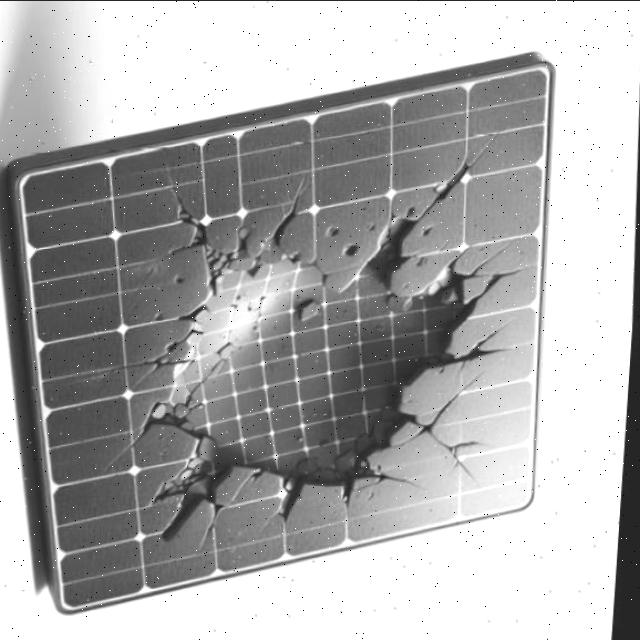Anomaly Solar Panel: (8, 65, 617, 610)
Structural Damage: (134, 197, 519, 550)
